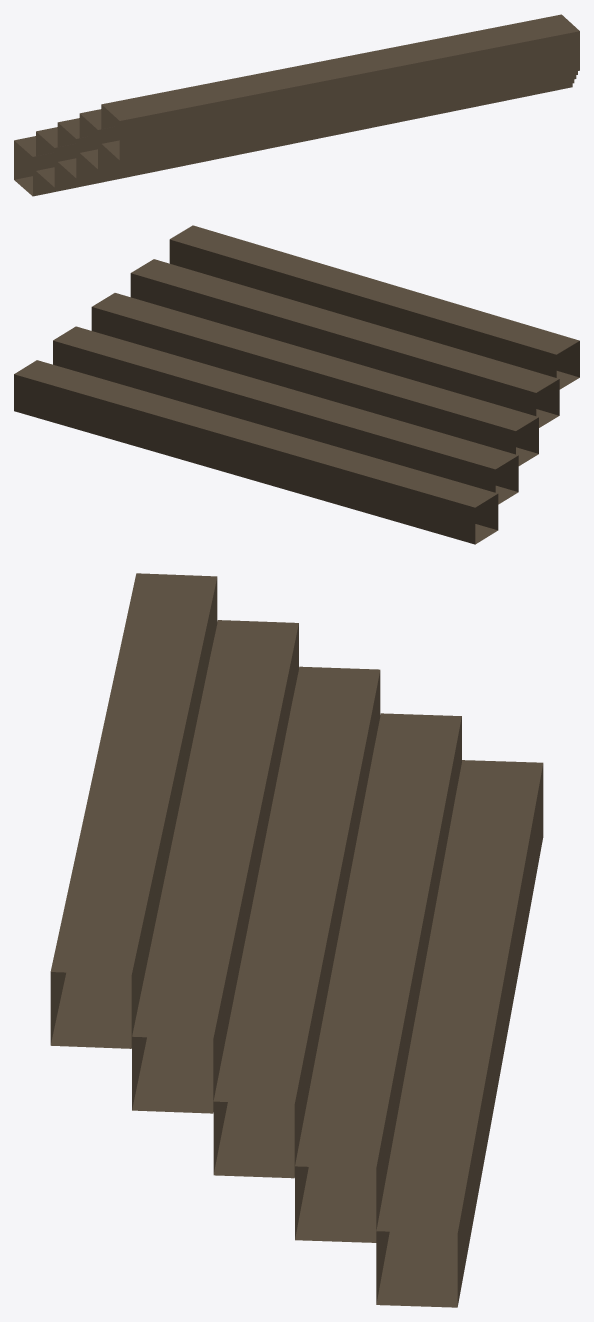
Rendered from discarded_timber.gltf.
3 views of the same model, one above another, from view 1: azimuth 30°, elevation 25°; view 2: azimuth 150°, elevation 25°; view 3: azimuth 270°, elevation 25° (orthographic). The views are drawn at different scales.
Bounding box in the file's own units: 2.62 × 0.67 × 1.15.
